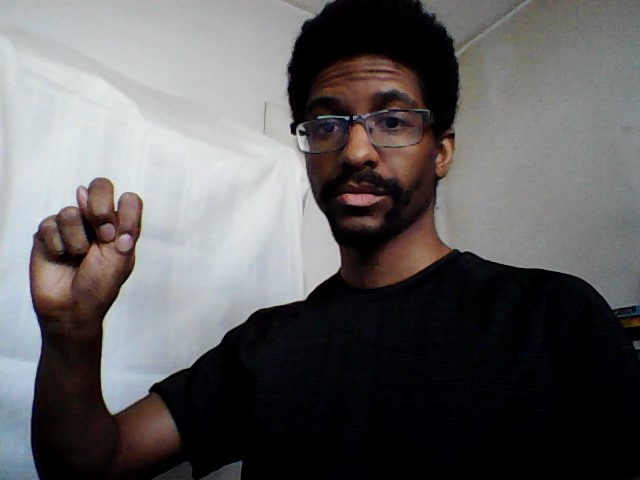n: (20, 170, 147, 328)
